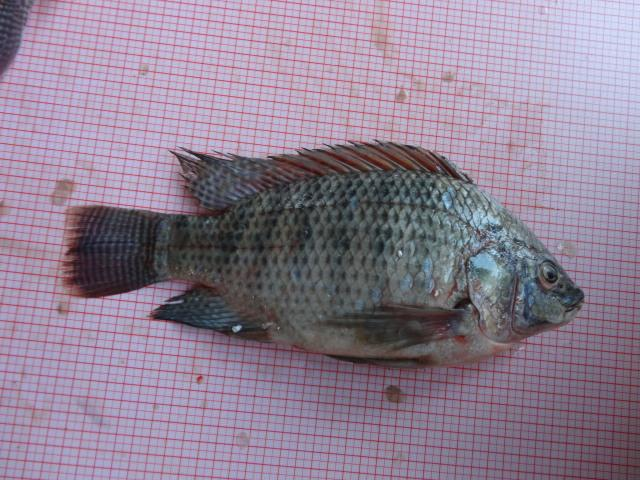Tilapia: (48, 136, 613, 366)
